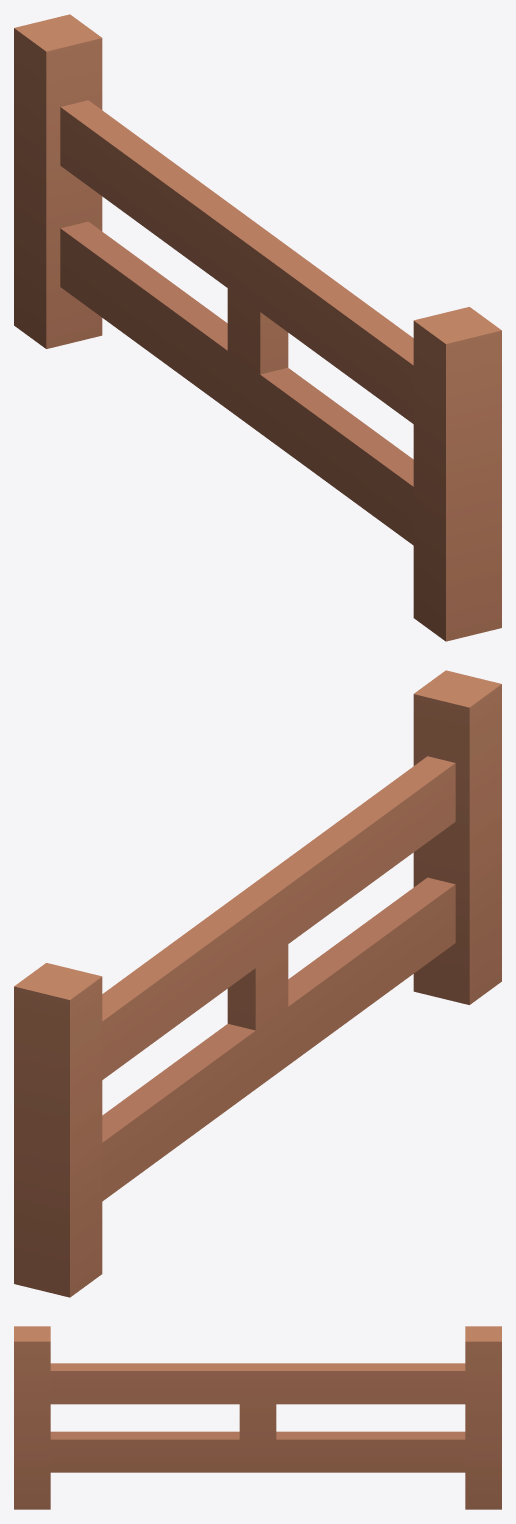
Rendered from fence.glb.
The picture shows the model from 3 angles, top to bottom: view 1: azimuth 30°, elevation 25°; view 2: azimuth 150°, elevation 25°; view 3: azimuth 270°, elevation 25°; orthographic projection. The views are drawn at different scales.
Parts seen in each view (by area): view 1: fence; view 2: fence; view 3: fence.
Part boxes in pixels (x1,y1,x2,y2): fence: (14, 14, 501, 641); fence: (14, 670, 501, 1297); fence: (14, 1326, 501, 1509).
Size of the model in its own units: 0.075 by 0.38 by 1.
1 material, 1 textured.
